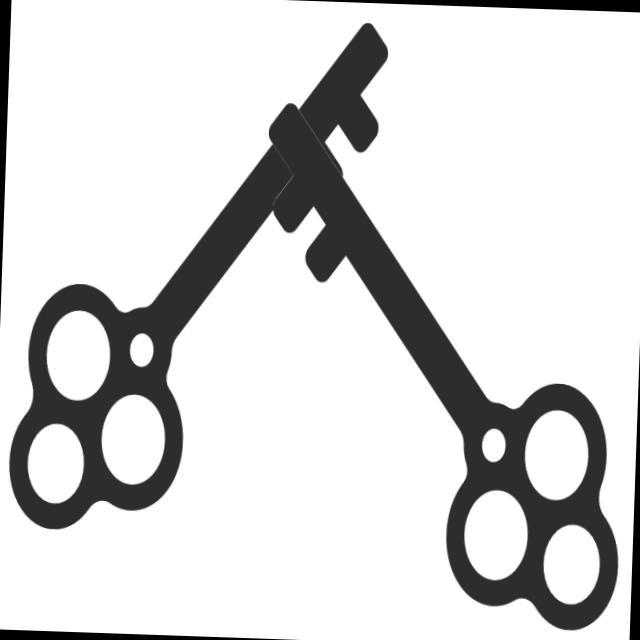key: (1, 4, 402, 551), (244, 87, 640, 637)
